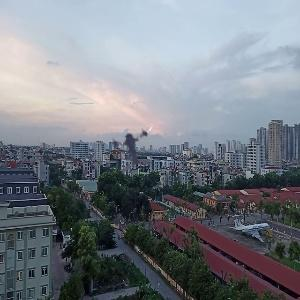drone: (100, 114, 163, 177)
